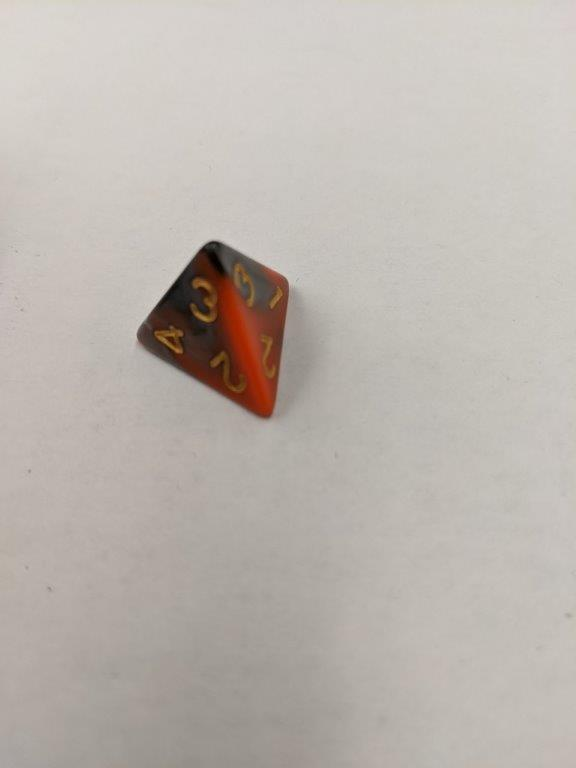d4-3: (134, 240, 291, 421)
